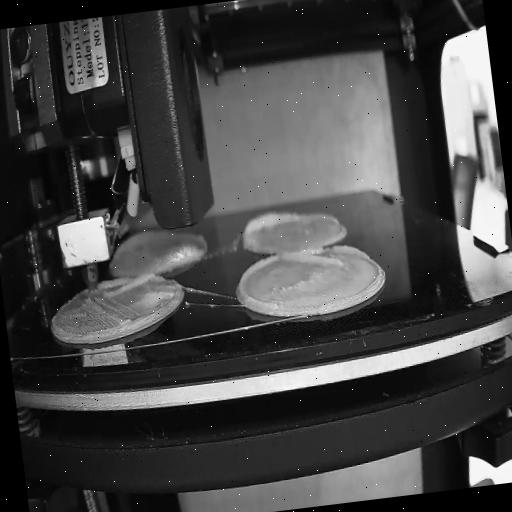over_extrusion: (281, 243, 372, 281), (236, 254, 286, 314), (239, 208, 304, 246), (97, 271, 155, 303), (308, 208, 340, 228)
